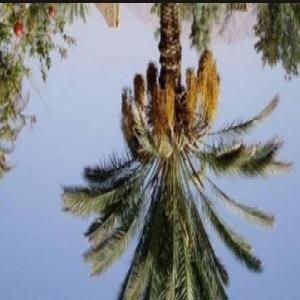palm tree: (60, 2, 292, 298)
